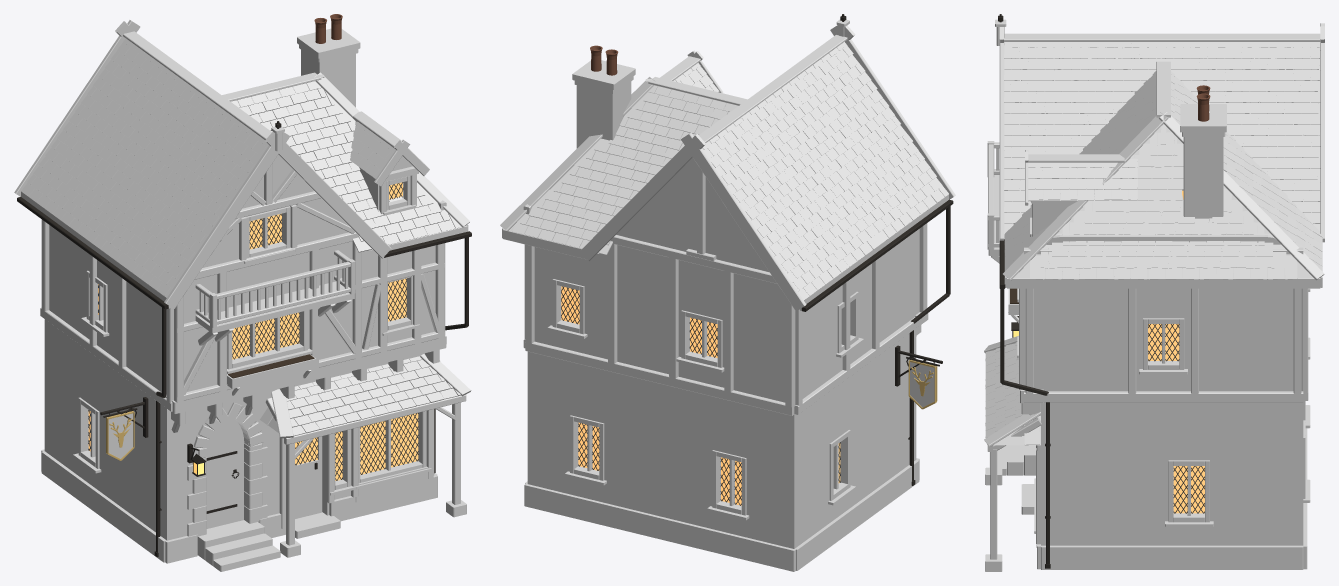
The model's file is SilverbrookTownhouse5.glb.
3 views of the same model, side by side, from view 1: azimuth 30°, elevation 25°; view 2: azimuth 150°, elevation 25°; view 3: azimuth 270°, elevation 25° (orthographic). The views are drawn at different scales.
Visible parts, largest first — view 1: SM_SBTownhouse5_Roof, SM_SBTownhouse5_Timber, SM_SBTownhouse5_Masonry, SM_SBTownhouse5_Plaster, SM_SBTownhouse5_Details, SM_SBTownhouse5_Door1, SM_SBTownhouse5_Door2; view 2: SM_SBTownhouse5_Masonry, SM_SBTownhouse5_Roof, SM_SBTownhouse5_Plaster, SM_SBTownhouse5_Timber, SM_SBTownhouse5_Details; view 3: SM_SBTownhouse5_Roof, SM_SBTownhouse5_Masonry, SM_SBTownhouse5_Plaster, SM_SBTownhouse5_Timber, SM_SBTownhouse5_Details.
Boxes of the visible parts, x1,y1,x2,y2 form: SM_SBTownhouse5_Roof: [21, 31, 471, 438]; SM_SBTownhouse5_Timber: [14, 20, 468, 545]; SM_SBTownhouse5_Masonry: [41, 28, 466, 571]; SM_SBTownhouse5_Plaster: [49, 154, 435, 394]; SM_SBTownhouse5_Details: [17, 14, 471, 556]; SM_SBTownhouse5_Door1: [206, 416, 244, 528]; SM_SBTownhouse5_Door2: [295, 436, 322, 518]; SM_SBTownhouse5_Masonry: [524, 60, 919, 571]; SM_SBTownhouse5_Roof: [500, 35, 948, 299]; SM_SBTownhouse5_Plaster: [534, 157, 919, 402]; SM_SBTownhouse5_Timber: [502, 19, 955, 520]; SM_SBTownhouse5_Details: [561, 14, 953, 505]; SM_SBTownhouse5_Roof: [984, 33, 1324, 446]; SM_SBTownhouse5_Masonry: [985, 104, 1307, 571]; SM_SBTownhouse5_Plaster: [1033, 194, 1293, 391]; SM_SBTownhouse5_Timber: [987, 19, 1324, 559]; SM_SBTownhouse5_Details: [998, 14, 1210, 568].
Bounding box in the file's own units: 7.27 × 8.95 × 5.98.
